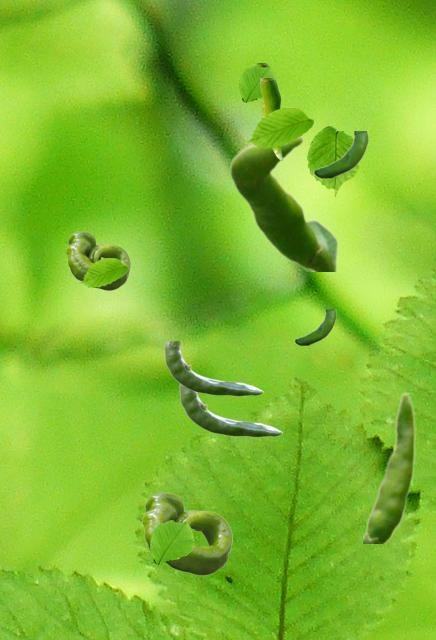green_chili: (229, 135, 336, 270), (363, 391, 415, 542), (142, 492, 231, 574), (179, 384, 281, 436), (164, 341, 262, 395), (66, 231, 129, 289), (313, 131, 367, 178), (260, 78, 281, 159), (294, 309, 335, 345), (254, 63, 268, 116)
